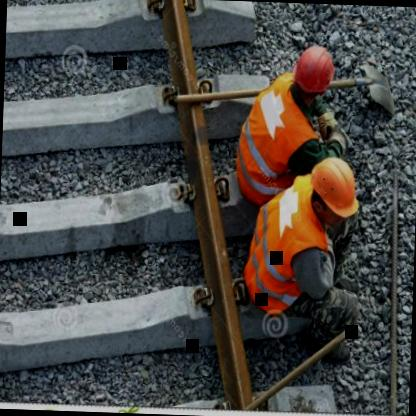helmet: (303, 150, 364, 226), (288, 38, 341, 112)
